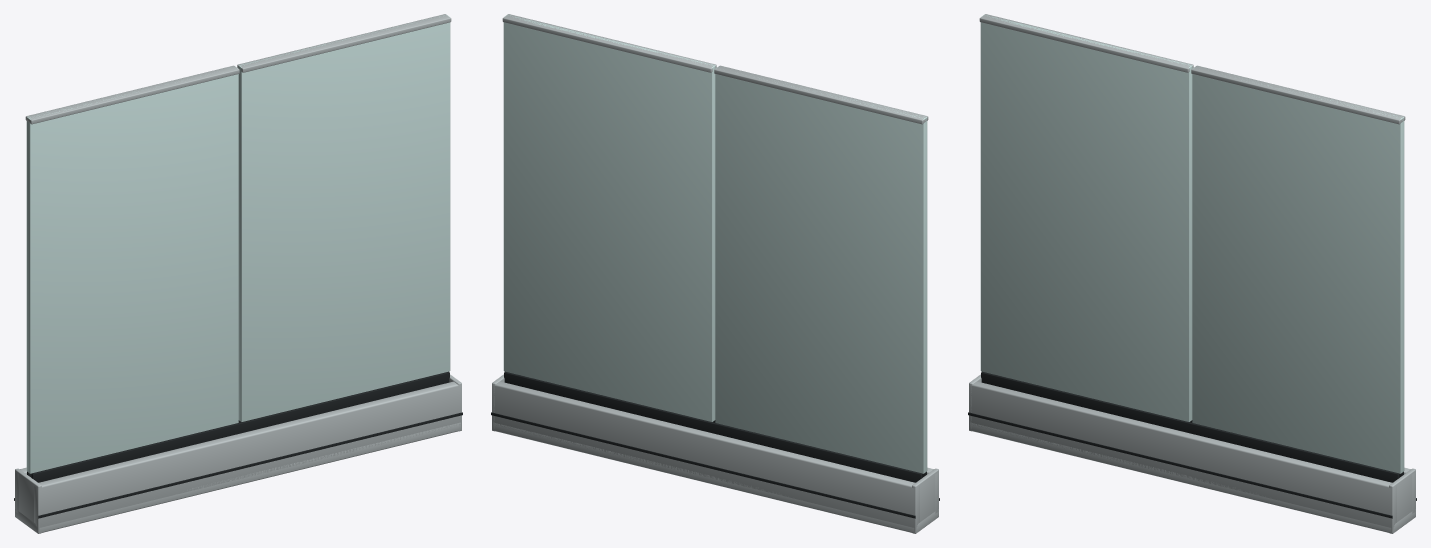
The model's file is balcony-rail-crystal.glb.
3 renders of one model, left to right at view 1: azimuth 30°, elevation 25°; view 2: azimuth 150°, elevation 25°; view 3: azimuth 330°, elevation 25°, orthographic.
Visible parts, largest first — view 1: catalog_surface_UVMap, catalog_surface_RealismUV; view 2: catalog_surface_UVMap, catalog_surface_RealismUV; view 3: catalog_surface_UVMap, catalog_surface_RealismUV.
Part boxes in pixels (x1,y1,x2,y2): catalog_surface_UVMap: (26,14,450,473); catalog_surface_RealismUV: (14,14,462,533); catalog_surface_UVMap: (503,14,927,473); catalog_surface_RealismUV: (491,14,939,533); catalog_surface_UVMap: (980,14,1404,473); catalog_surface_RealismUV: (968,14,1416,533).
Bounding box in the file's own units: 1.2 × 1.1 × 0.12.
